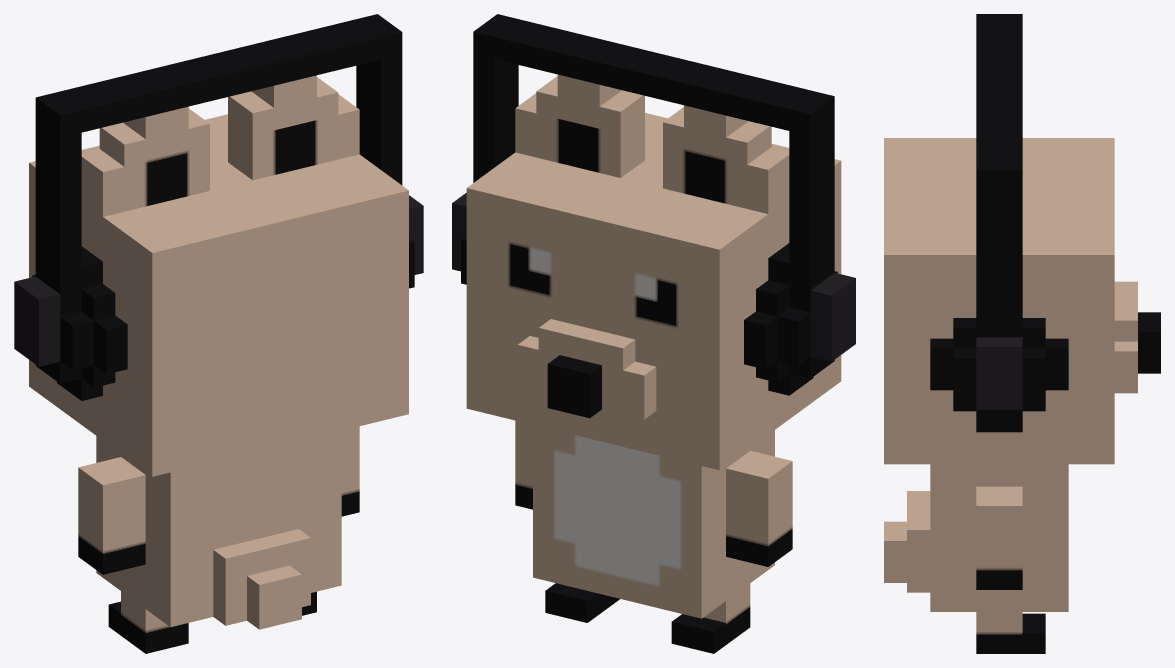
Rendered from BearKawaiiDesune.dae.
3 renders of one model, left to right at view 1: azimuth 30°, elevation 25°; view 2: azimuth 150°, elevation 25°; view 3: azimuth 270°, elevation 25°, orthographic. The views are drawn at different scales.
Parts seen in each view (by area): view 1: BearKawaiiDesune; view 2: BearKawaiiDesune; view 3: BearKawaiiDesune.
Part boxes in pixels (x1,y1,x2,y2): BearKawaiiDesune: [14, 14, 423, 653]; BearKawaiiDesune: [452, 14, 855, 653]; BearKawaiiDesune: [884, 14, 1160, 653].
Bounding box in the file's own units: 18 × 25 × 12.
Materials: 1 (1 with a texture image).
